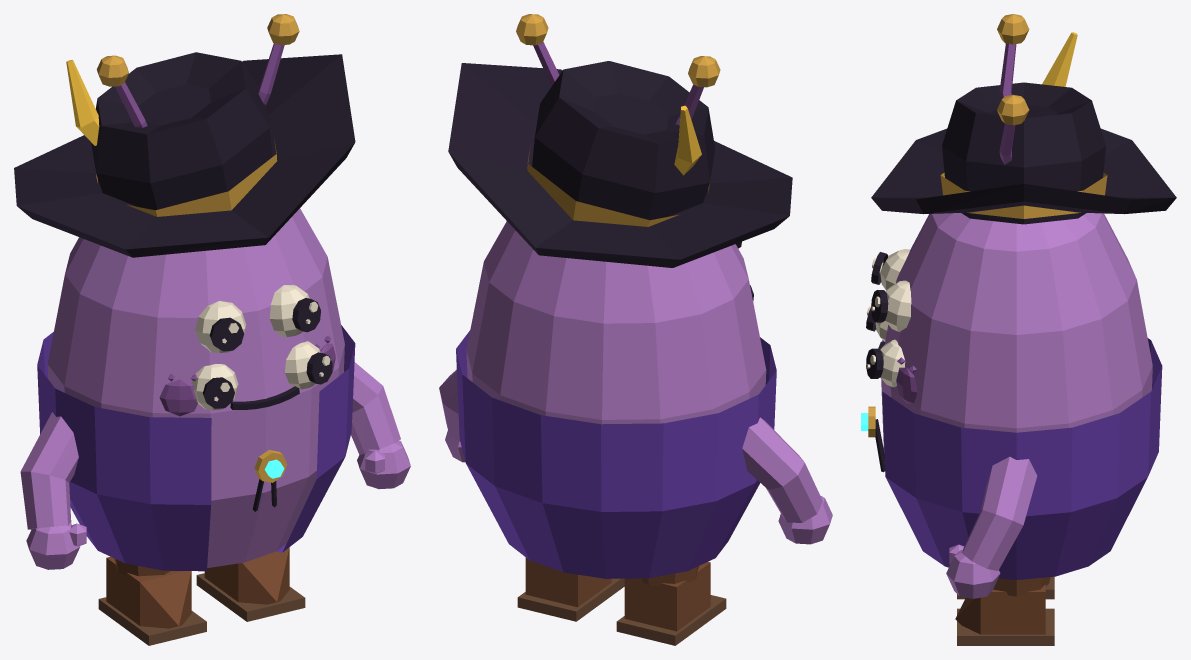
The model's file is Char_Native_Dandy.fbx.
3 views of the same model, side by side, from view 1: azimuth 30°, elevation 25°; view 2: azimuth 150°, elevation 25°; view 3: azimuth 270°, elevation 25° (orthographic). The views are drawn at different scales.
Parts seen in each view (by area): view 1: Char_Native_Dandy_Body, Char_Native_Dandy_Head, Char_Native_Dandy_Arm_R, Char_Native_Dandy_Leg_R, Char_Native_Dandy_Leg_L, Char_Native_Dandy_Arm_L; view 2: Char_Native_Dandy_Body, Char_Native_Dandy_Leg_R, Char_Native_Dandy_Arm_R, Char_Native_Dandy_Leg_L, Char_Native_Dandy_Head, Char_Native_Dandy_Arm_L; view 3: Char_Native_Dandy_Body, Char_Native_Dandy_Head, Char_Native_Dandy_Arm_L, Char_Native_Dandy_Leg_L.
Part boxes in pixels (left/top/right/bottom): Char_Native_Dandy_Body: left=14, top=52, right=355, bottom=571; Char_Native_Dandy_Head: left=96, top=14, right=335, bottom=416; Char_Native_Dandy_Arm_R: left=20, top=412, right=86, bottom=569; Char_Native_Dandy_Leg_R: left=98, top=556, right=206, bottom=645; Char_Native_Dandy_Leg_L: left=196, top=547, right=305, bottom=621; Char_Native_Dandy_Arm_L: left=351, top=362, right=410, bottom=489; Char_Native_Dandy_Body: left=448, top=61, right=792, bottom=578; Char_Native_Dandy_Leg_R: left=616, top=562, right=726, bottom=645; Char_Native_Dandy_Arm_R: left=742, top=417, right=832, bottom=544; Char_Native_Dandy_Leg_L: left=517, top=557, right=624, bottom=621; Char_Native_Dandy_Head: left=516, top=14, right=753, bottom=301; Char_Native_Dandy_Arm_L: left=439, top=370, right=465, bottom=462; Char_Native_Dandy_Body: left=861, top=32, right=1176, bottom=579; Char_Native_Dandy_Head: left=866, top=14, right=1029, bottom=403; Char_Native_Dandy_Arm_L: left=946, top=456, right=1037, bottom=598; Char_Native_Dandy_Leg_L: left=955, top=577, right=1054, bottom=645.
Size of the model in its own units: 1.17 by 1.69 by 0.8726.
